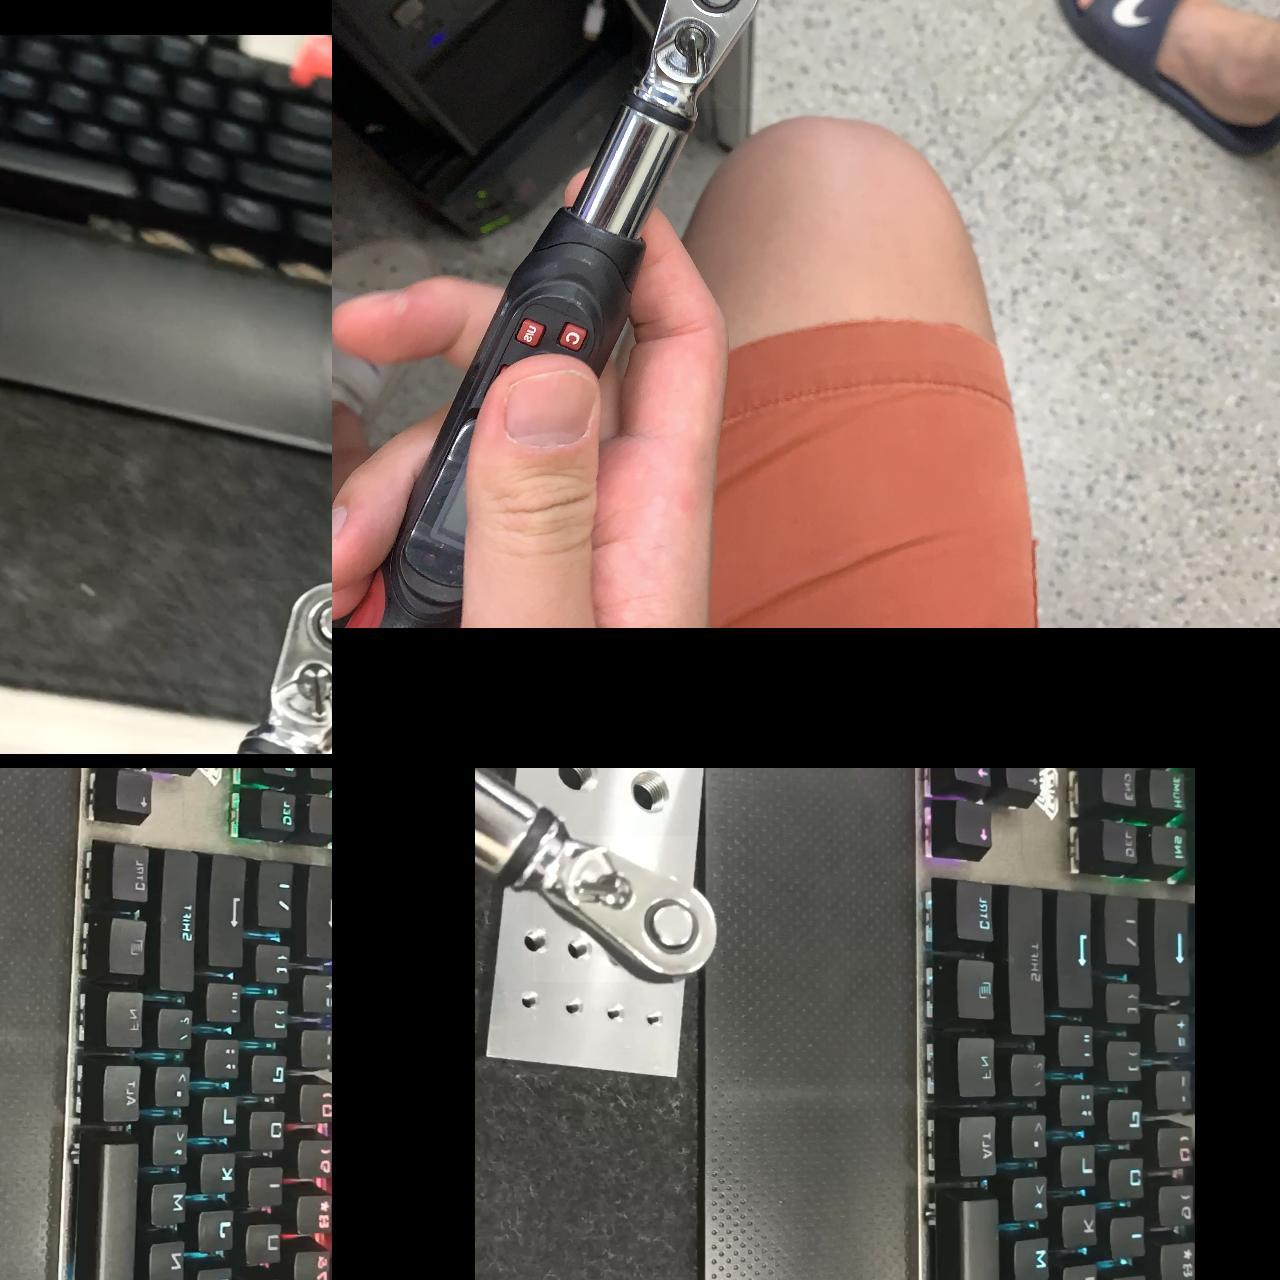Tool: (533, 835, 721, 981), (632, 0, 762, 108), (259, 580, 332, 754)
